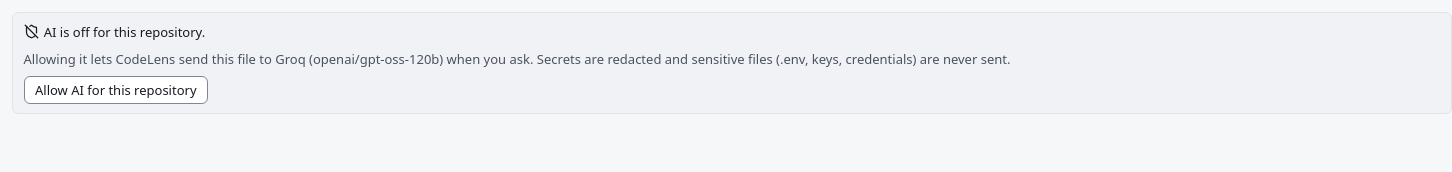
Scenario: AI consent notice (B6) › turns on only on an explicit click, and can be turned off again
Click the button "Allow AI for this repository" at [116, 90], box [24,76,208,104]
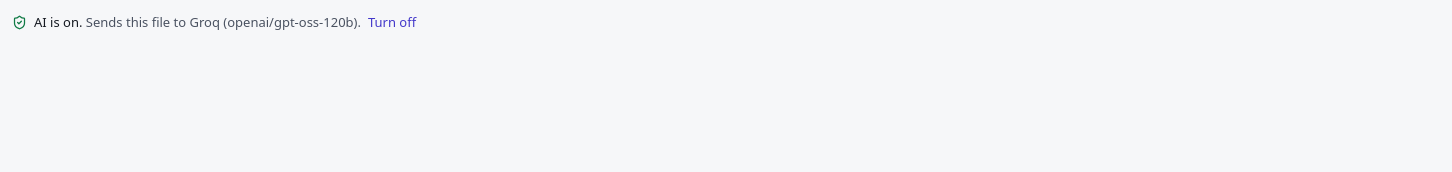
Check: the text "AI is on." is shown, box [34,13,82,31]
Check: the element that starts with "AI is on." shows "AI is on. Sends this file to Groq (openai/gpt-oss-120b).", box [12,12,416,32]
Click the button with aria-label "Turn off AI for this repository" at [392, 22], box [368,12,416,32]
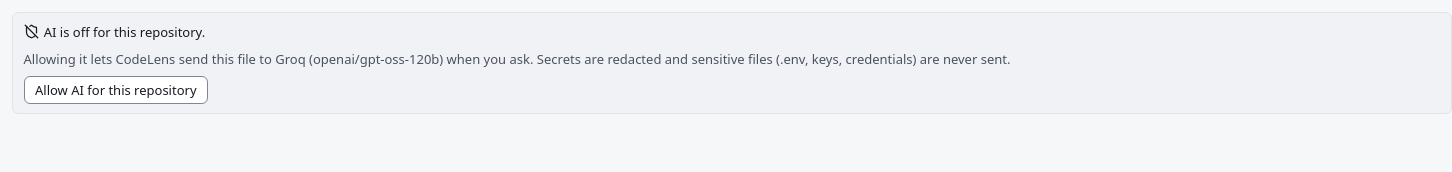
Check: the text "AI is off for this repository." is shown, box [24,23,205,41]
